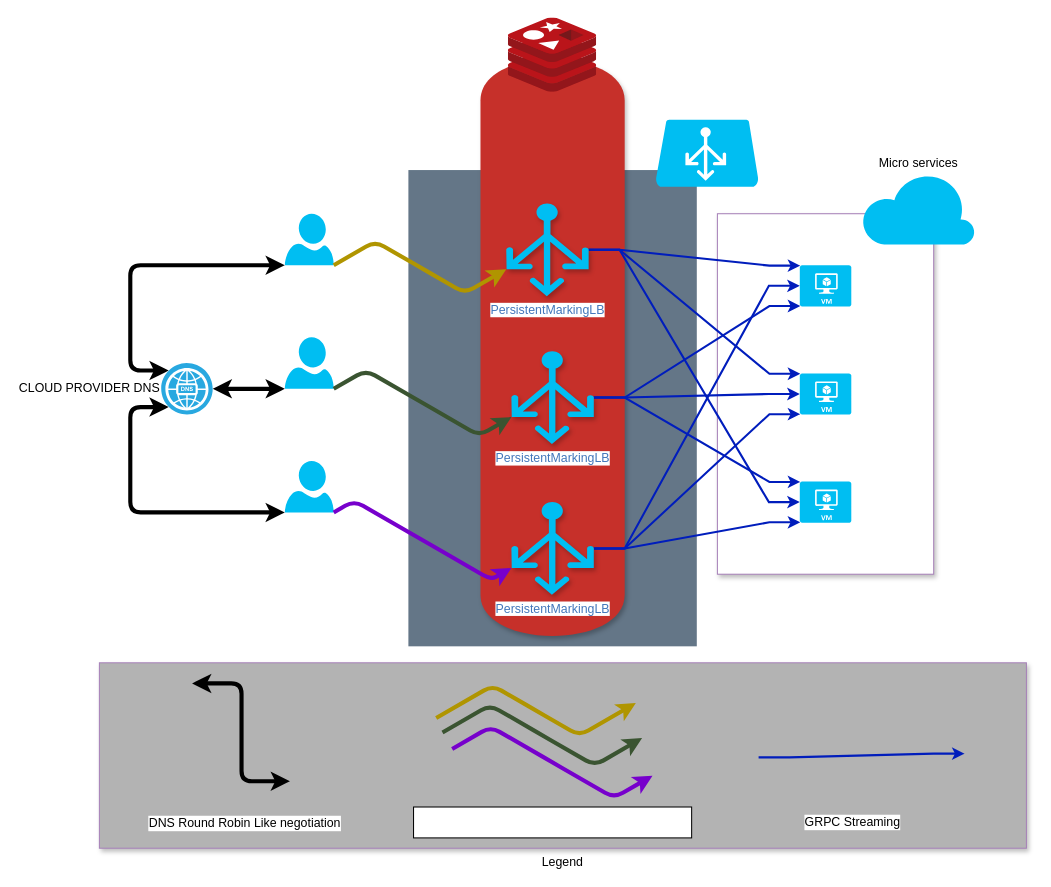
This 1051x887 diagram has some shape labels left out. Here are the shapes that lost their labels. From the top down, the centre of each, then its label:
the point at 552,55: Redis
the point at 706,152: Load Balancer Pool
the point at 552,822: Sticky/Persistent TCP workflow for a single LB
